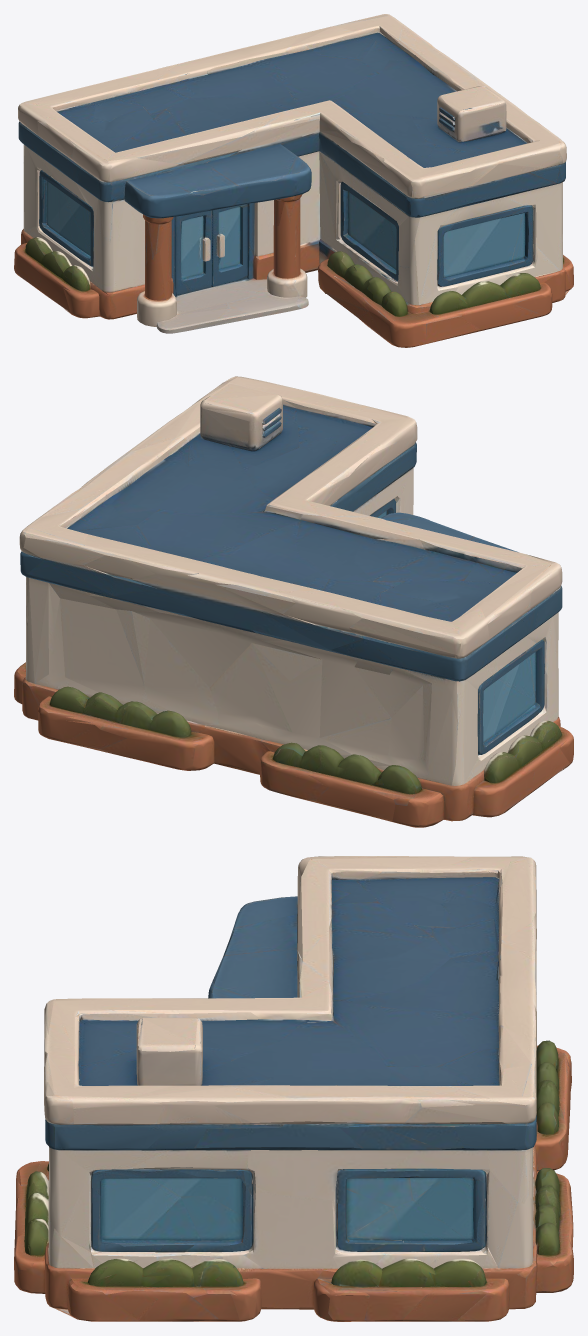
File: bankBuilding.glb
The picture shows the model from 3 angles, top to bottom: view 1: azimuth 30°, elevation 25°; view 2: azimuth 150°, elevation 25°; view 3: azimuth 270°, elevation 25°; orthographic projection. The views are drawn at different scales.
Visible parts, largest first — view 1: Mesh_0; view 2: Mesh_0; view 3: Mesh_0.
Part boxes in pixels (x1,y1,x2,y2): Mesh_0: (14,14,573,347); Mesh_0: (14,376,573,827); Mesh_0: (14,856,573,1321).
Bounding box in the file's own units: 3.2 × 1.35 × 2.79.
1 material, 1 textured.
